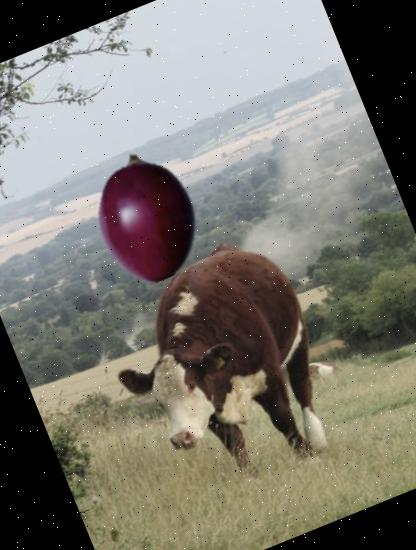Tamarillo: (60, 131, 232, 302)
